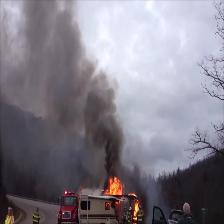fire: (107, 175, 122, 195)
smoke: (31, 7, 78, 97), (89, 104, 122, 165)
